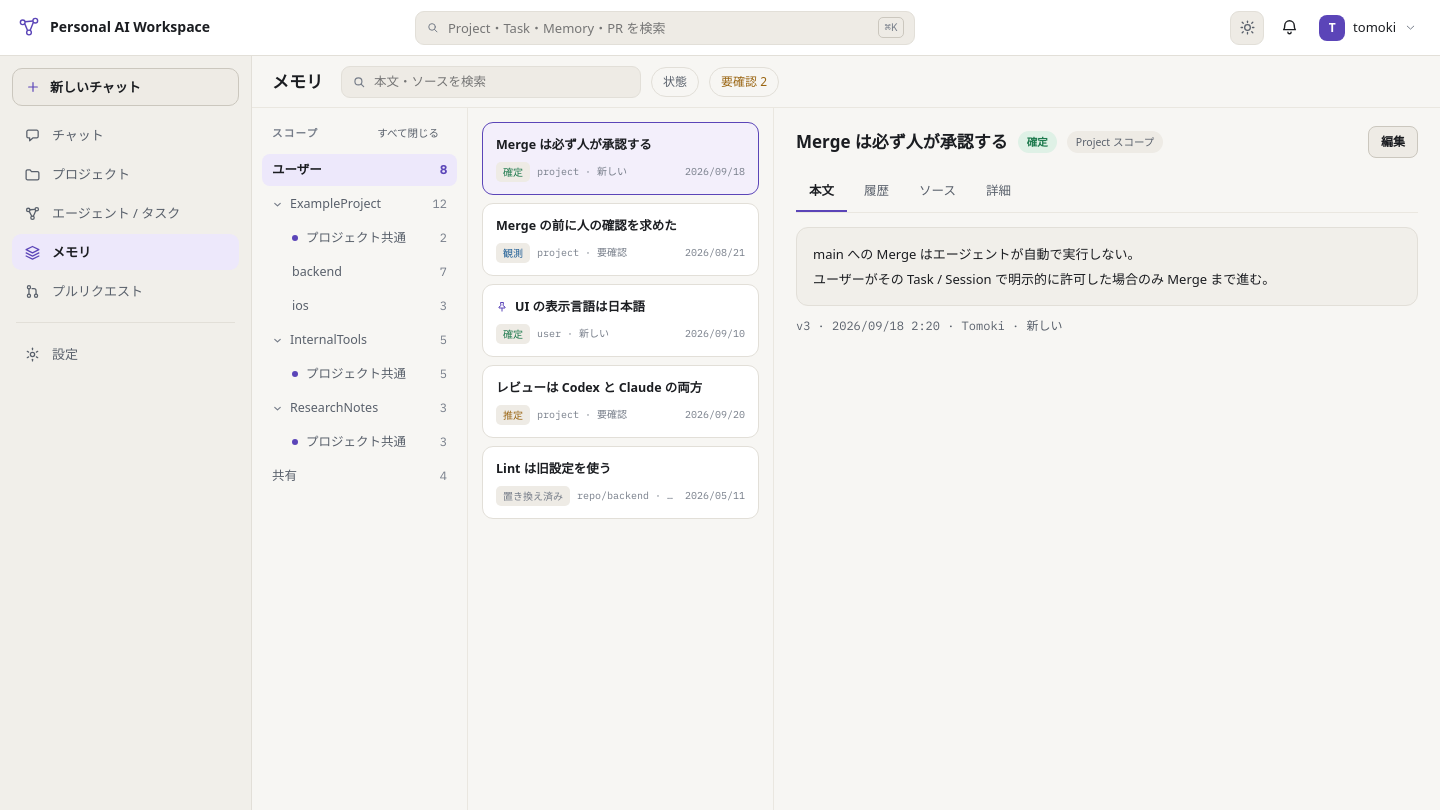
Test: Memory screen › restores a past version as a new active version, never the old one
Step 1. Click the tab "履歴" → click(876, 192), box x1=851 y1=172 x2=902 y2=212
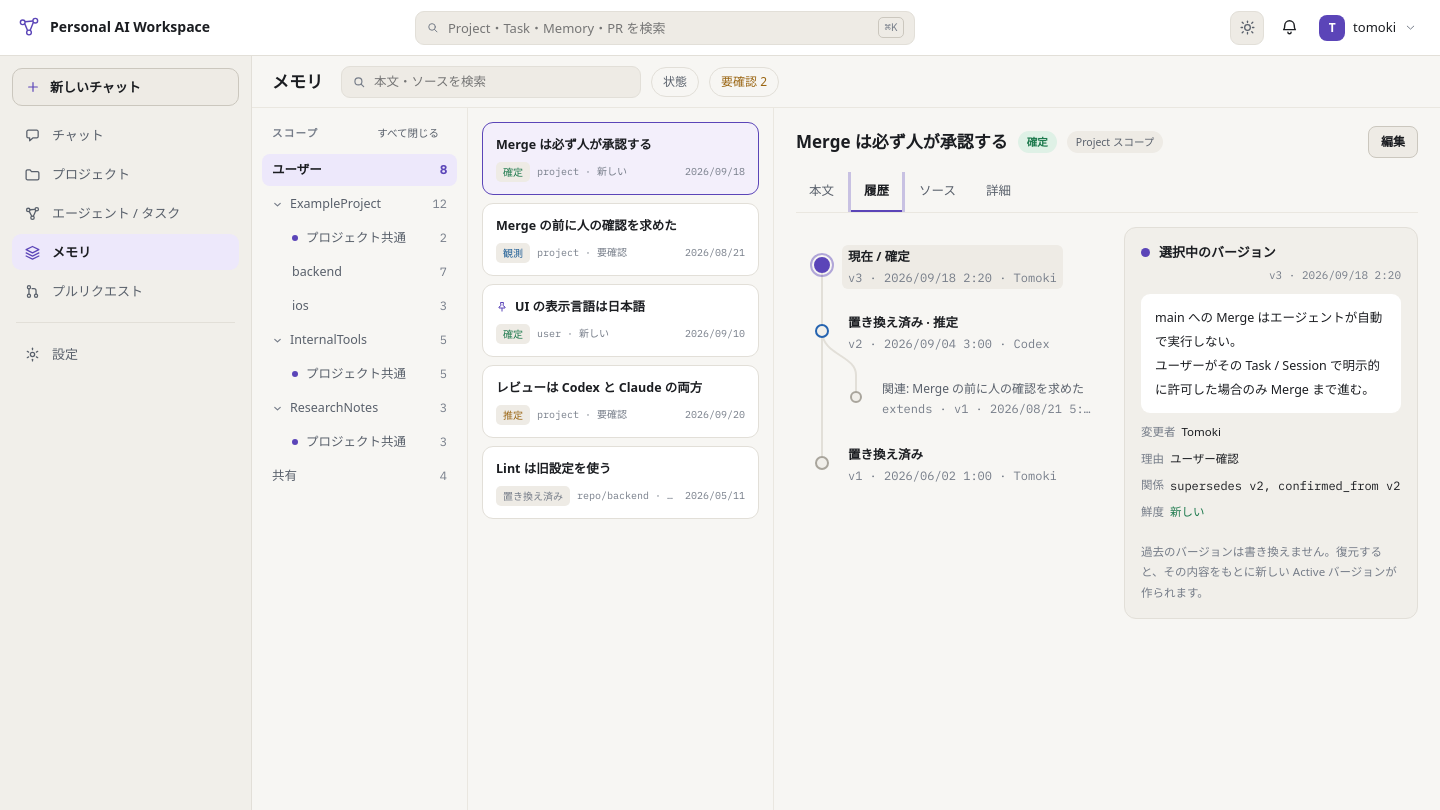
Step 2. Click the button "置き換え済み v1 · 2026/06/02 1:00 · Tomoki" → click(952, 465), box x1=842 y1=443 x2=1063 y2=487
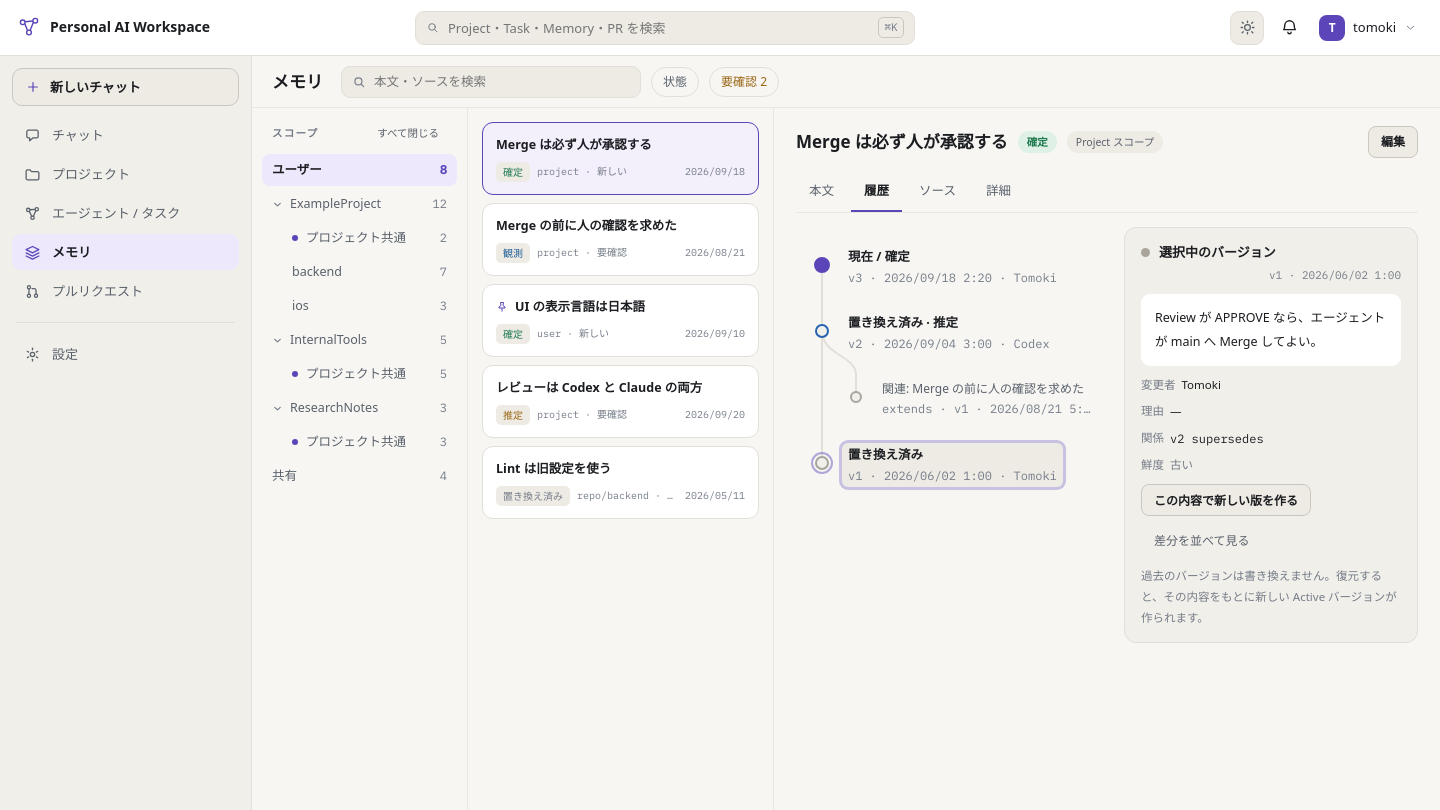
Step 3. Click the button "この内容で新しい版を作る" → click(1226, 500), box x1=1141 y1=484 x2=1311 y2=516
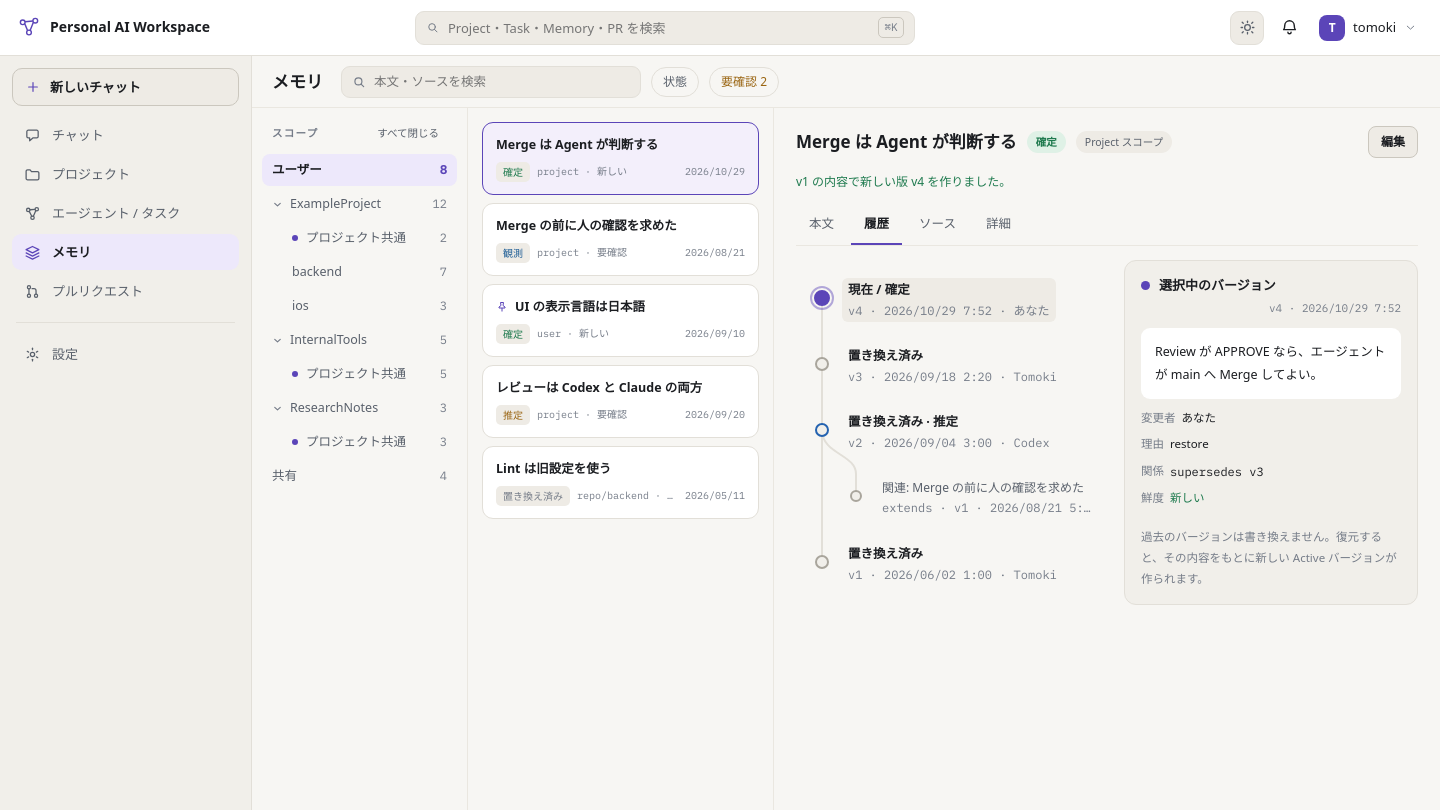
expect the text "v1 の内容で新しい版 v4 を作りました。" is shown: met, box x1=796 y1=173 x2=1011 y2=190
expect the heading "Merge は Agent が判断する" is shown: met, box x1=796 y1=128 x2=1017 y2=156
